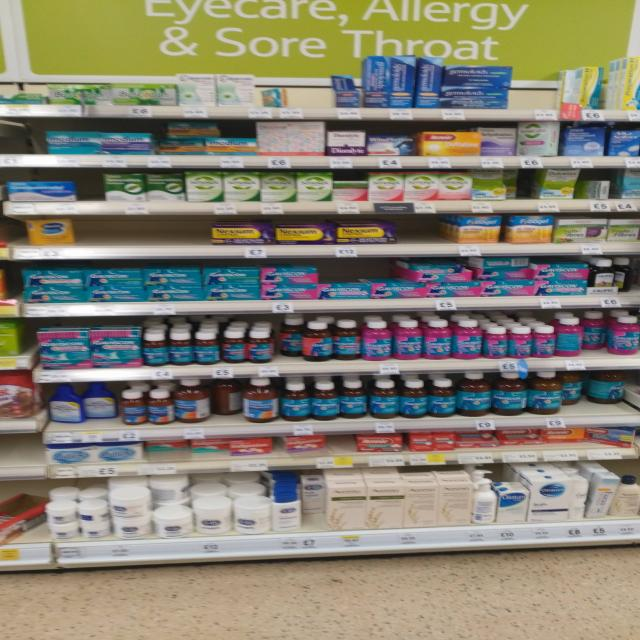unorganised: (516, 121, 562, 157), (47, 382, 85, 423), (589, 366, 626, 406), (83, 381, 119, 419), (162, 118, 220, 140), (275, 312, 304, 356), (212, 378, 242, 414), (301, 477, 325, 519), (583, 308, 607, 349), (611, 254, 633, 293), (468, 267, 533, 280), (573, 179, 611, 201), (562, 370, 586, 403), (464, 258, 535, 269), (505, 171, 522, 198), (260, 89, 286, 106)
